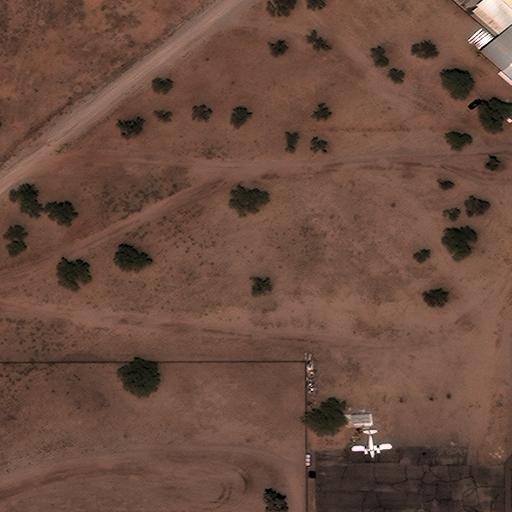Small Civil Transport: (351, 429, 391, 457)
